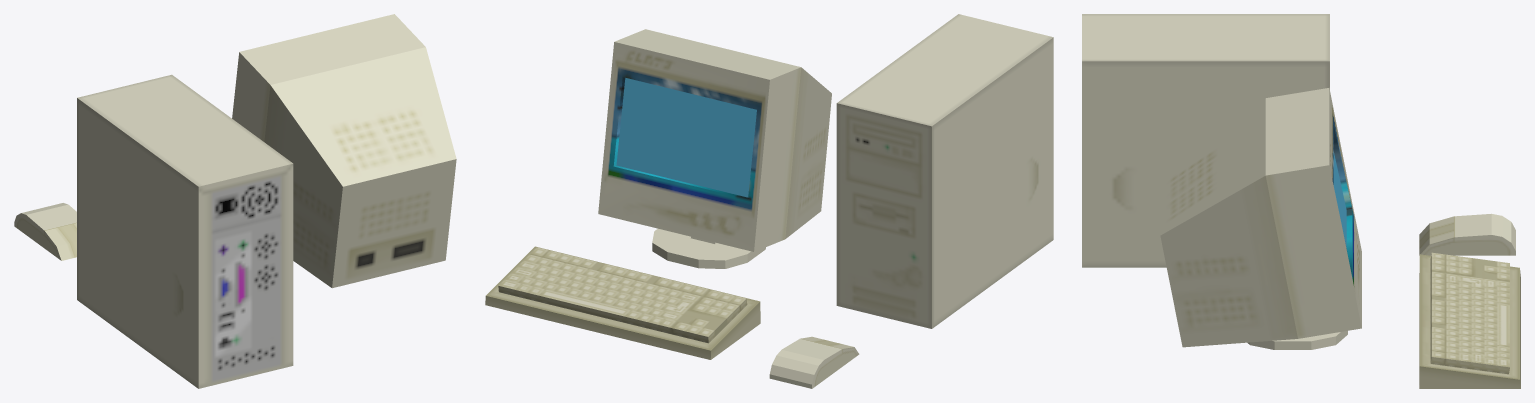
The model's file is PCLit.fbx.
3 renders of one model, left to right at view 1: azimuth 30°, elevation 25°; view 2: azimuth 150°, elevation 25°; view 3: azimuth 270°, elevation 25°, orthographic. The views are drawn at different scales.
Parts seen in each view (by area): view 1: Case, MonitorOn, Mouse; view 2: Case, MonitorOn, Keyboard, Mouse; view 3: MonitorOn, Case, Keyboard, Mouse.
Part boxes in pixels (x1,y1,x2,y2): Case: (77,74,293,388); MonitorOn: (232,14,456,288); Mouse: (14,203,76,260); Case: (836,14,1053,328); MonitorOn: (598,29,831,268); Keyboard: (485,246,760,359); Mouse: (769,336,859,388); MonitorOn: (1160,88,1361,349); Case: (1082,14,1329,267); Keyboard: (1419,252,1520,388); Mouse: (1419,213,1515,255).
Size of the model in its own units: 964 by 546 by 1020.
